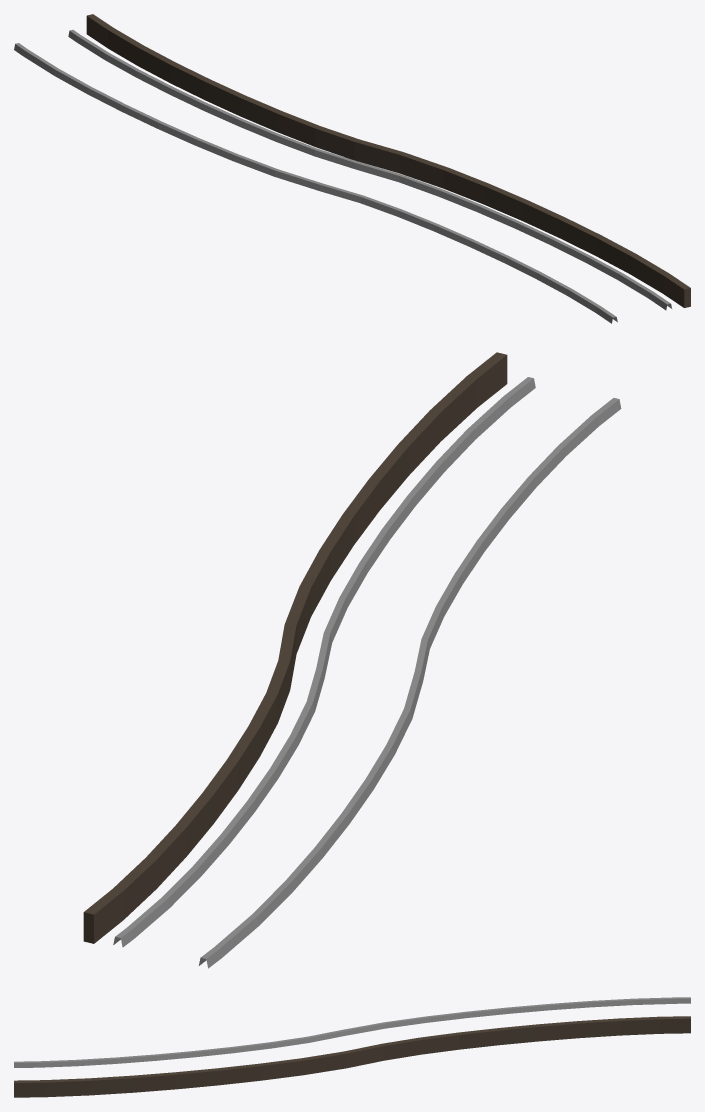
File: SW_ENV_Track_SingleJog_20m_Right_Collision.fbx
3 views of the same model, one above another, from view 1: azimuth 30°, elevation 25°; view 2: azimuth 150°, elevation 25°; view 3: azimuth 270°, elevation 25° (orthographic). The views are drawn at different scales.
Parts seen in each view (by area): view 1: SW_ENV_Track_SingleJog_20m_Right_Collision; view 2: SW_ENV_Track_SingleJog_20m_Right_Collision; view 3: SW_ENV_Track_SingleJog_20m_Right_Collision.
Part boxes in pixels (<box>): SW_ENV_Track_SingleJog_20m_Right_Collision: <box>14,14,690,323</box>; SW_ENV_Track_SingleJog_20m_Right_Collision: <box>83,352,621,968</box>; SW_ENV_Track_SingleJog_20m_Right_Collision: <box>14,997,690,1097</box>.
Size of the model in its own units: 662 by 47.71 by 2000.
